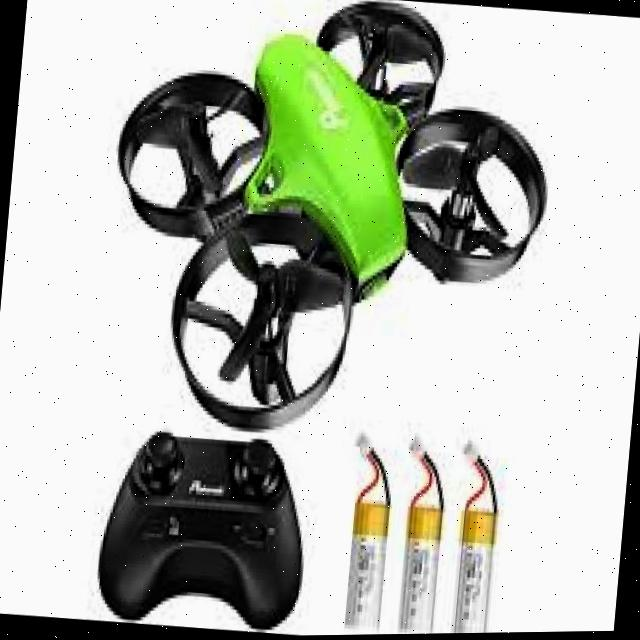drone: (63, 0, 599, 465)
